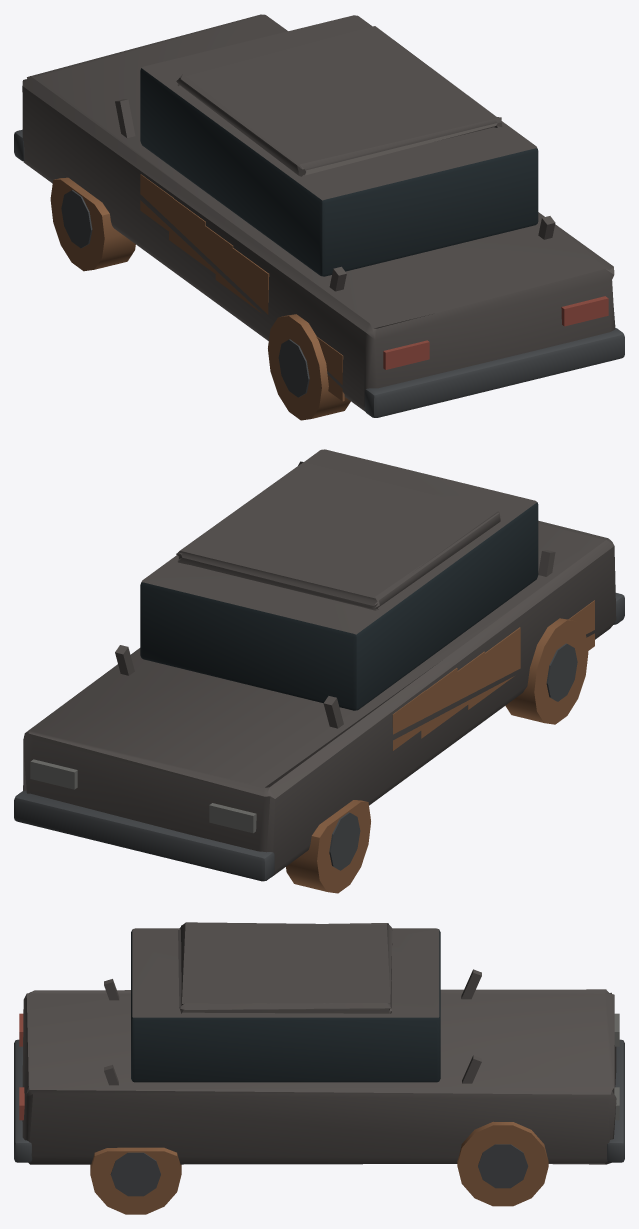
Rendered from ZR_Car_Sedan_Burnt.fbx.
The picture shows the model from 3 angles, top to bottom: view 1: azimuth 30°, elevation 25°; view 2: azimuth 150°, elevation 25°; view 3: azimuth 270°, elevation 25°; orthographic projection. The views are drawn at different scales.
Visible parts, largest first — view 1: ZR_Car_Sedan_Burnt; view 2: ZR_Car_Sedan_Burnt; view 3: ZR_Car_Sedan_Burnt.
Part boxes in pixels (<box>): ZR_Car_Sedan_Burnt: <box>14,14,624,420</box>; ZR_Car_Sedan_Burnt: <box>14,449,624,893</box>; ZR_Car_Sedan_Burnt: <box>14,922,624,1214</box>.
Size of the model in its own units: 1.95 by 1.62 by 4.54.
